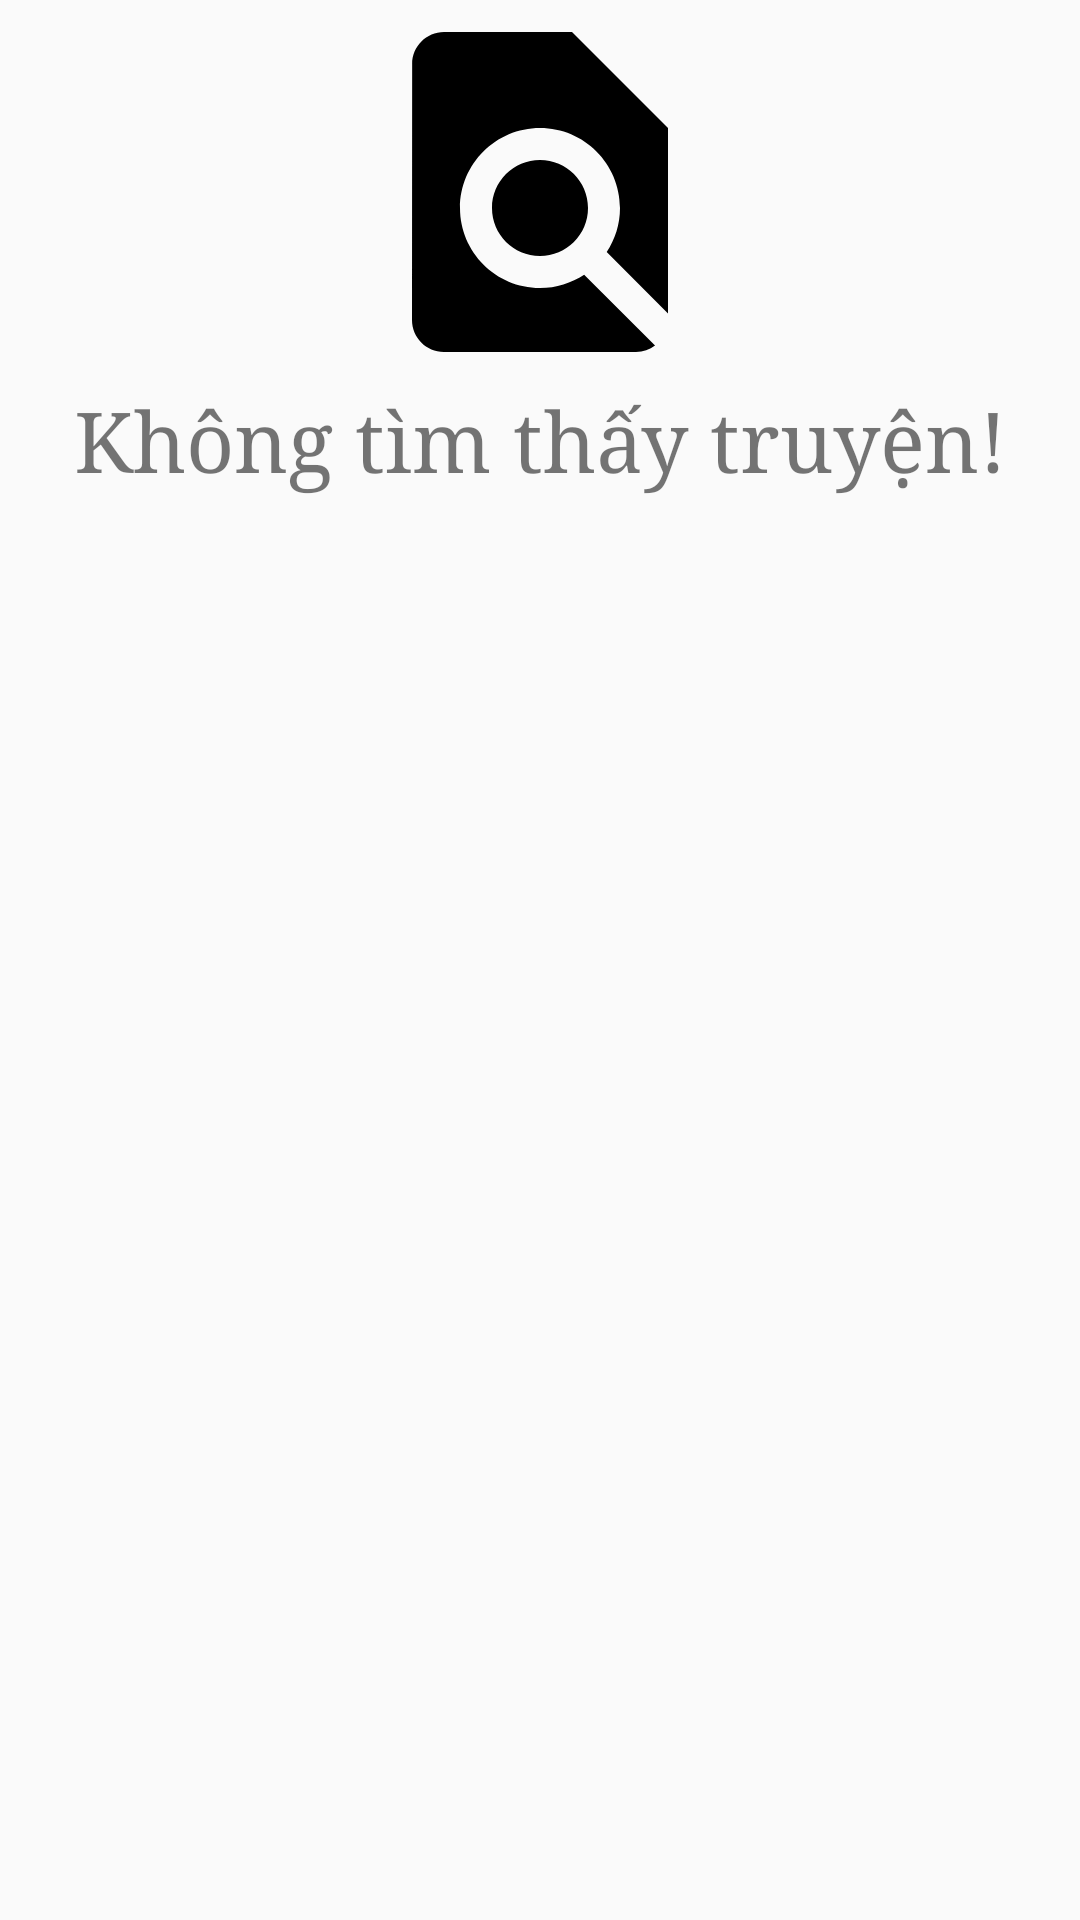

Named icons in this screenshot (1080px x 1920px) and their bounding boxes, region(x1, y1, x2, y2):
find in page: region(412, 32, 668, 352)
